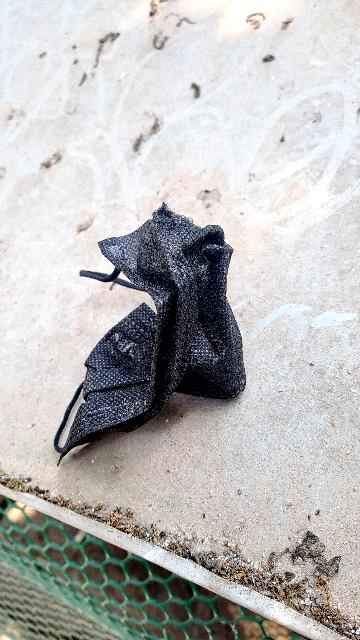mask: (20, 205, 262, 454)
